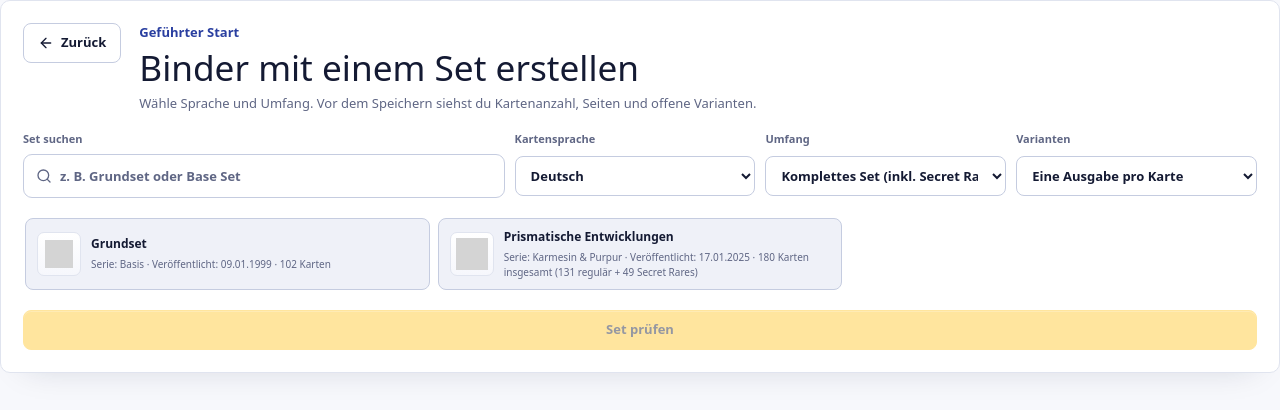
SetBinderWizard › keeps German UI names while exposing the English set name for English cards
Step 1. Select "Englisch" in the dropdown labelled "Kartensprache" → (635, 176), box [515,156,755,196]
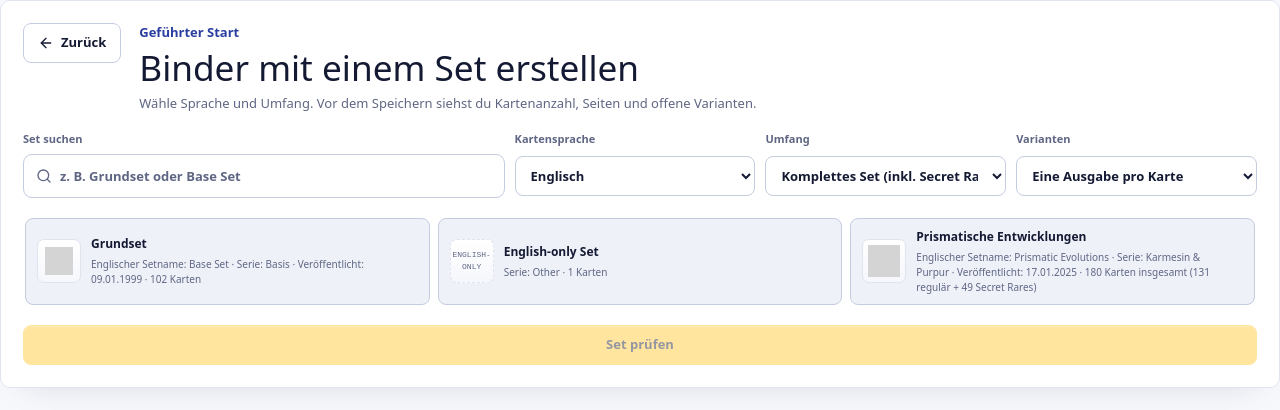
Expected: the button that starts with "Grundset" is shown, [25,218,430,304]
Expected: the button "english-only English-only Set Serie: Other · 1 Karten" is shown, [438,218,842,304]
